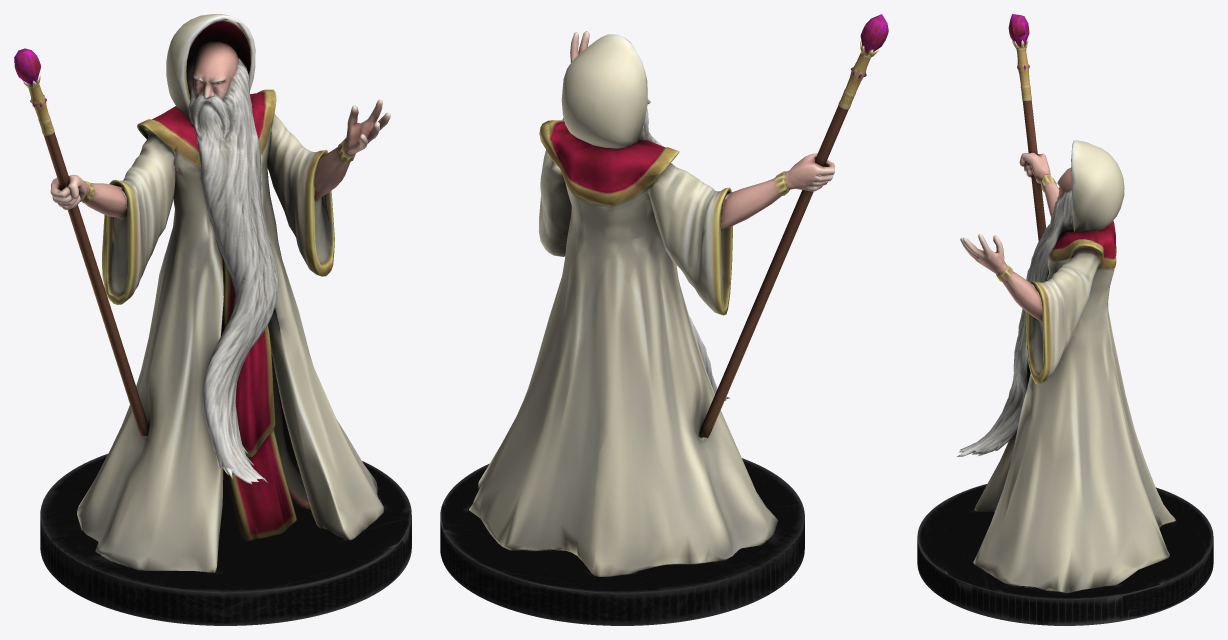
File: MZ4250 - Human Wizard (Ringlerun).glb
3 views of the same model, side by side, from view 1: azimuth 30°, elevation 25°; view 2: azimuth 150°, elevation 25°; view 3: azimuth 270°, elevation 25° (orthographic). The views are drawn at different scales.
Parts seen in each view (by area): view 1: body_low.001, base_low.001, beard_low.001, staff_low.001; view 2: body_low.001, base_low.001, staff_low.001, beard_low.001; view 3: body_low.001, base_low.001, beard_low.001, staff_low.001.
Part boxes in pixels (<box>): body_low.001: <box>50,14,390,572</box>; base_low.001: <box>40,454,411,625</box>; beard_low.001: <box>186,57,278,483</box>; staff_low.001: <box>14,48,148,436</box>; body_low.001: <box>469,31,835,576</box>; base_low.001: <box>440,458,804,625</box>; staff_low.001: <box>699,14,888,437</box>; beard_low.001: <box>637,108,730,400</box>; body_low.001: <box>960,140,1175,593</box>; base_low.001: <box>917,484,1213,625</box>; beard_low.001: <box>956,190,1073,456</box>; staff_low.001: <box>1008,14,1045,241</box>.
Size of the model in its own units: 4.93 by 6.78 by 3.96.
Materials: 1 (1 with a texture image).
